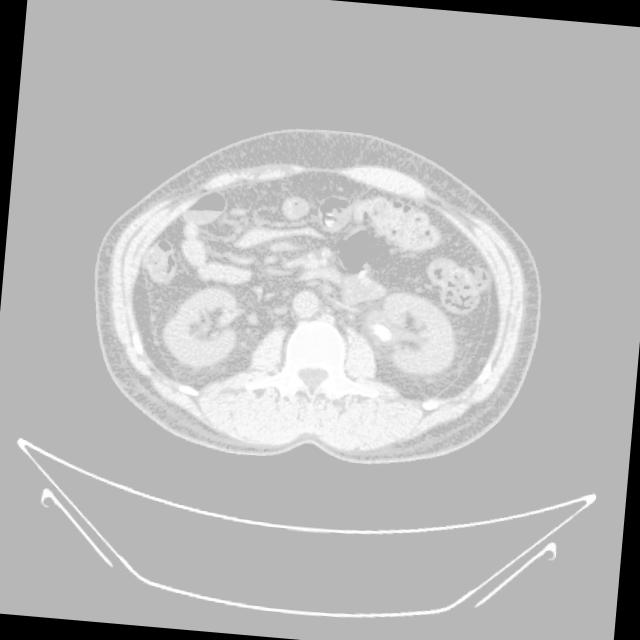STONE: (120, 234, 455, 455)
